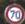Speed Limit -70-: (0, 1, 24, 23)
